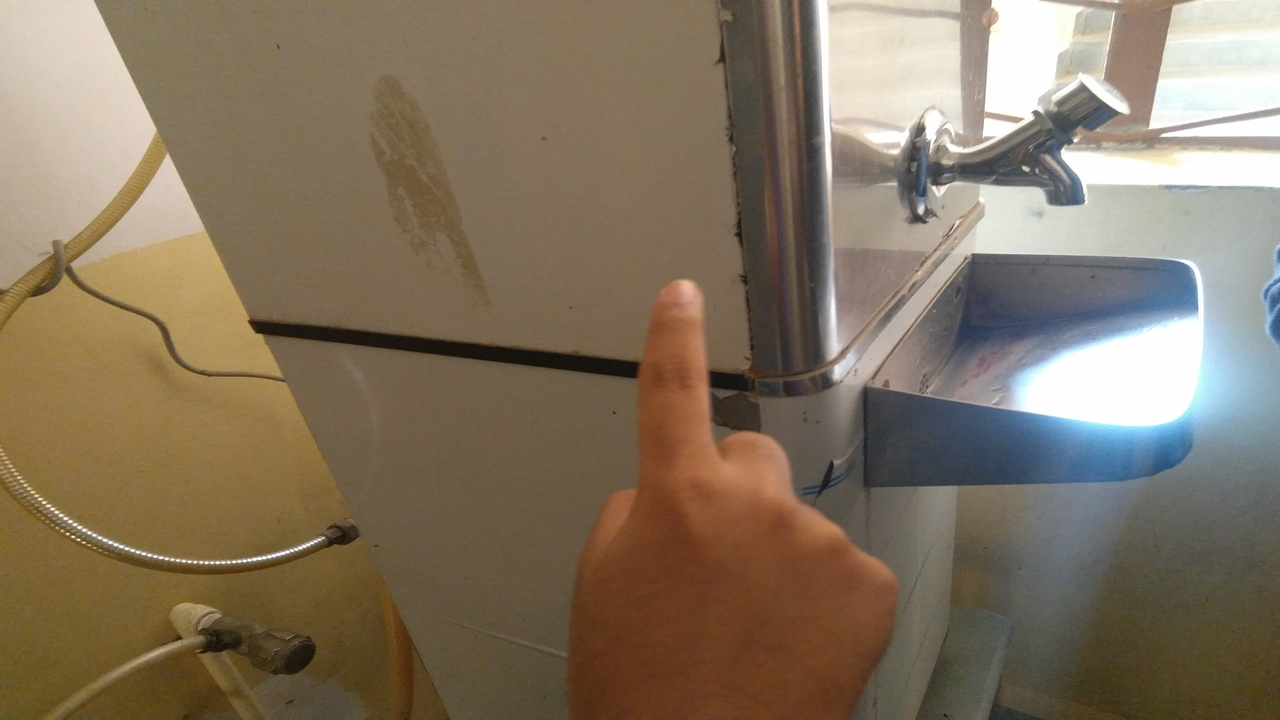fingertip: (646, 268, 706, 328)
